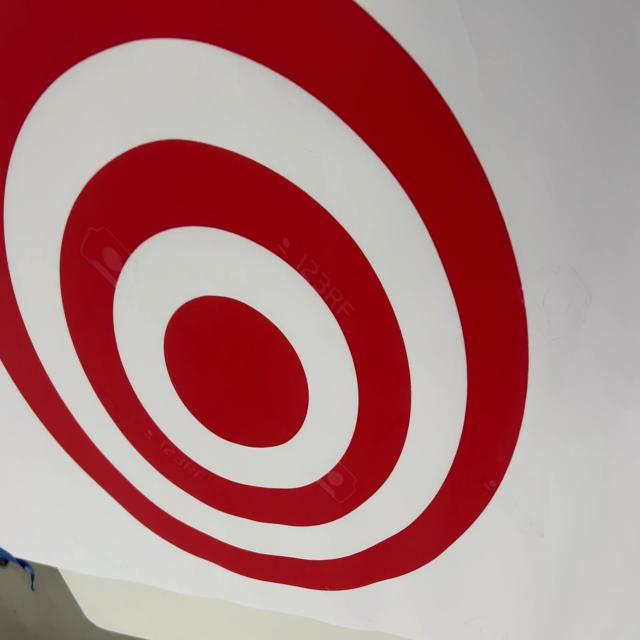target_red: (0, 0, 544, 616)
